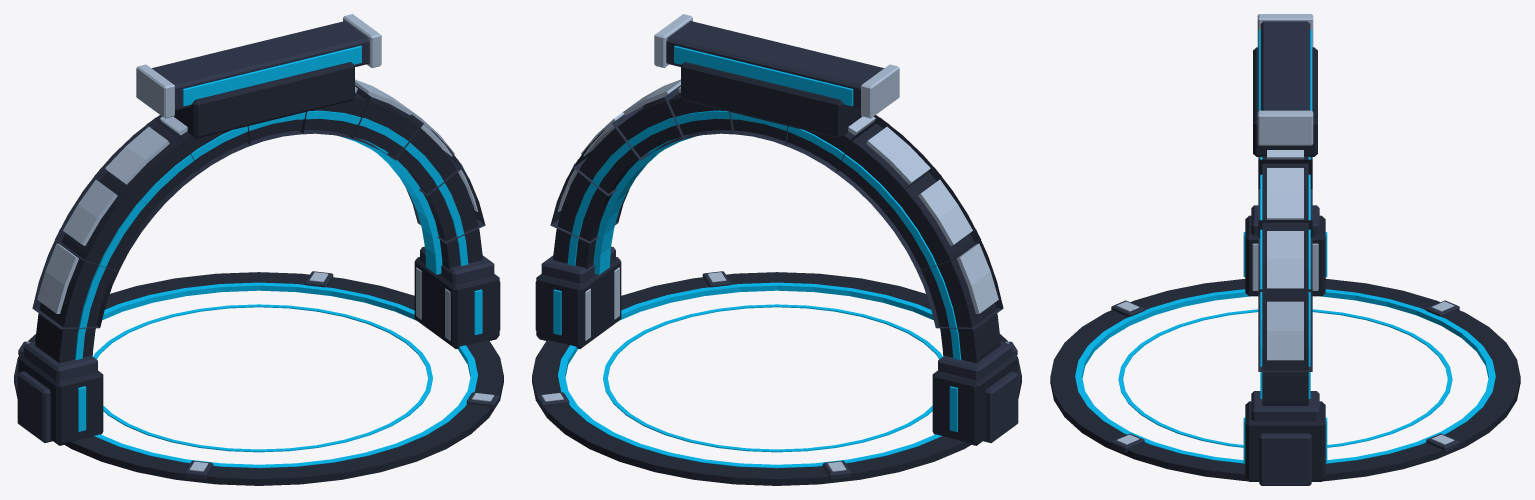
File: QueuePortalArch_Prototype.obj
The picture shows the model from 3 angles, left to right: view 1: azimuth 30°, elevation 25°; view 2: azimuth 150°, elevation 25°; view 3: azimuth 270°, elevation 25°; orthographic projection. The views are drawn at different scales.
Visible parts, largest first — view 1: SM_Hub_QueuePortalArch_01_MAT_DarkNeutral, SM_Hub_QueuePortalArch_01_EMI_Cyan, SM_Hub_QueuePortalArch_01_MAT_AltNeutral, SM_Hub_QueuePortalArch_01_MAT_LightTrim; view 2: SM_Hub_QueuePortalArch_01_MAT_DarkNeutral, SM_Hub_QueuePortalArch_01_EMI_Cyan, SM_Hub_QueuePortalArch_01_MAT_AltNeutral, SM_Hub_QueuePortalArch_01_MAT_LightTrim; view 3: SM_Hub_QueuePortalArch_01_MAT_DarkNeutral, SM_Hub_QueuePortalArch_01_MAT_AltNeutral, SM_Hub_QueuePortalArch_01_MAT_LightTrim, SM_Hub_QueuePortalArch_01_EMI_Cyan.
Boxes of the visible parts, box(x1,y1,x2,y2) form: SM_Hub_QueuePortalArch_01_MAT_DarkNeutral: box(14, 62, 503, 485); SM_Hub_QueuePortalArch_01_EMI_Cyan: box(74, 45, 482, 468); SM_Hub_QueuePortalArch_01_MAT_AltNeutral: box(17, 21, 500, 479); SM_Hub_QueuePortalArch_01_MAT_LightTrim: box(27, 14, 494, 471); SM_Hub_QueuePortalArch_01_MAT_DarkNeutral: box(532, 62, 1021, 485); SM_Hub_QueuePortalArch_01_EMI_Cyan: box(553, 45, 961, 468); SM_Hub_QueuePortalArch_01_MAT_AltNeutral: box(535, 21, 1018, 479); SM_Hub_QueuePortalArch_01_MAT_LightTrim: box(541, 14, 1008, 471); SM_Hub_QueuePortalArch_01_MAT_DarkNeutral: box(1050, 47, 1520, 481); SM_Hub_QueuePortalArch_01_MAT_AltNeutral: box(1111, 21, 1459, 485); SM_Hub_QueuePortalArch_01_MAT_LightTrim: box(1116, 14, 1454, 444); SM_Hub_QueuePortalArch_01_EMI_Cyan: box(1075, 30, 1495, 463).
Size of the model in its own units: 32.8 by 22.75 by 30.4.
